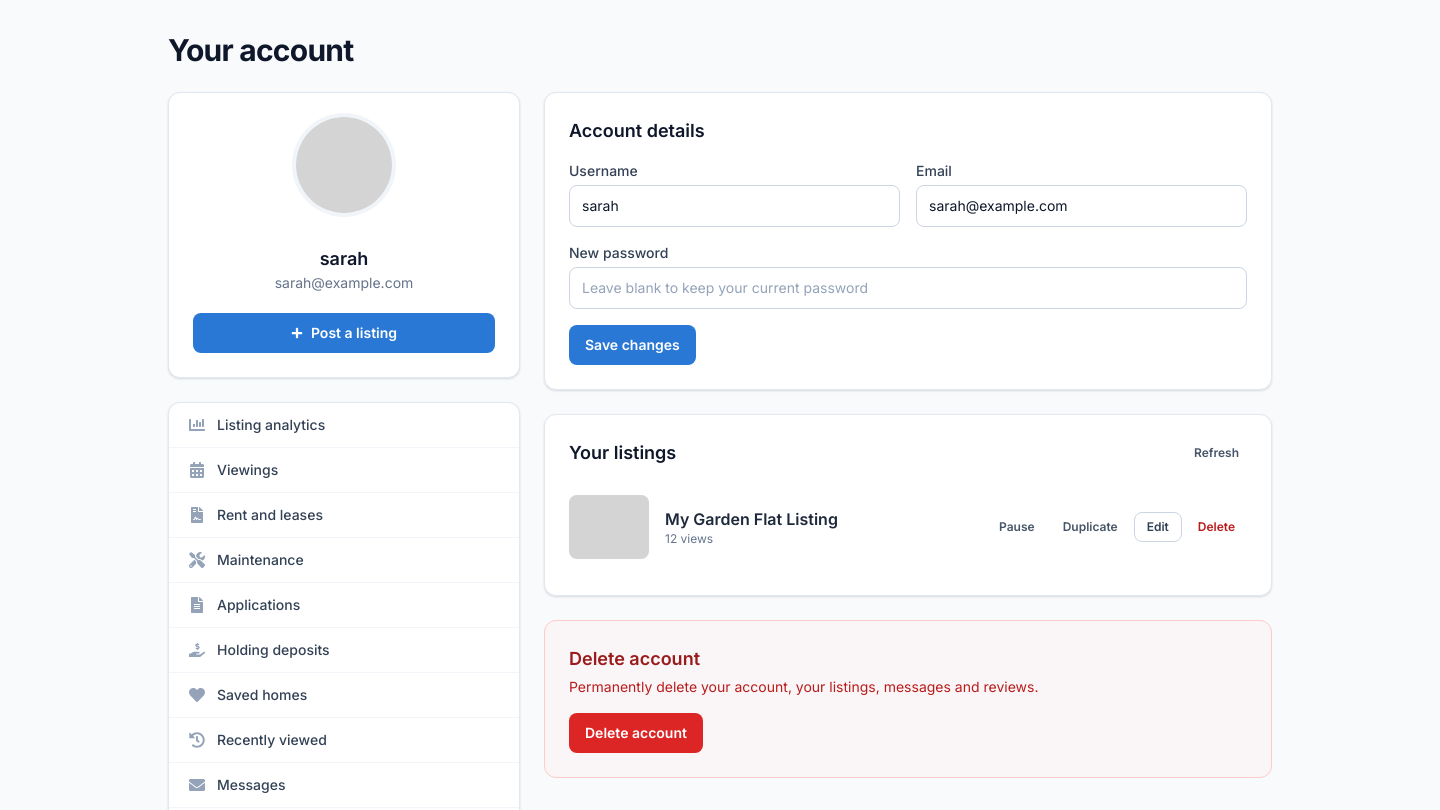
Test: Profile page › asks before deleting a listing, then removes it
Click the button "Delete".
click(1216, 527)  # box [1186,512,1247,542]
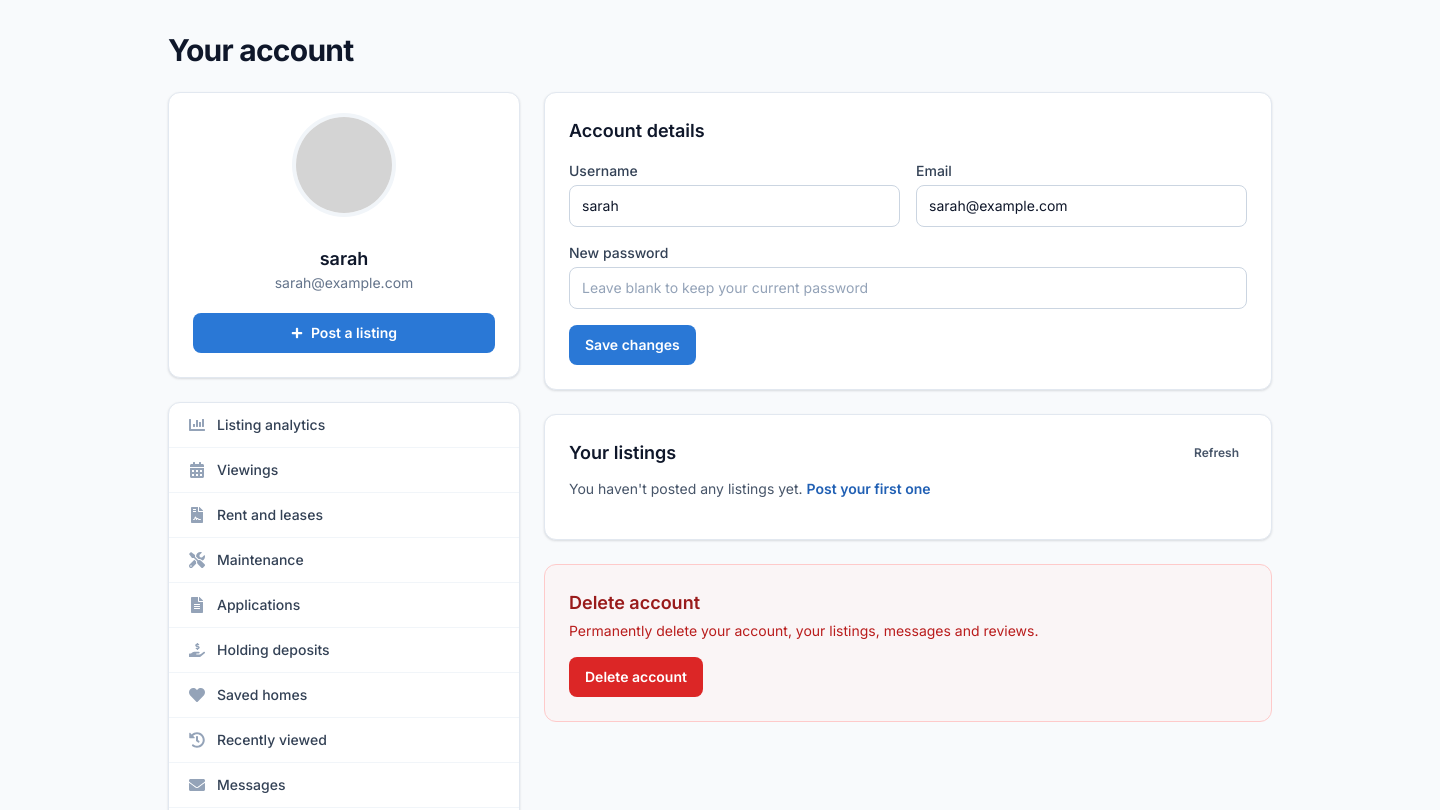
Now the link "My Garden Flat Listing" is gone
